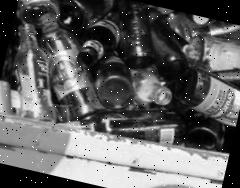glass: (19, 8, 126, 125), (48, 80, 189, 156), (0, 17, 78, 127), (167, 61, 240, 130), (105, 0, 168, 74), (85, 47, 142, 114), (73, 5, 126, 77), (182, 28, 240, 79), (55, 0, 123, 39), (122, 63, 177, 110), (177, 109, 230, 157), (13, 0, 68, 34)
